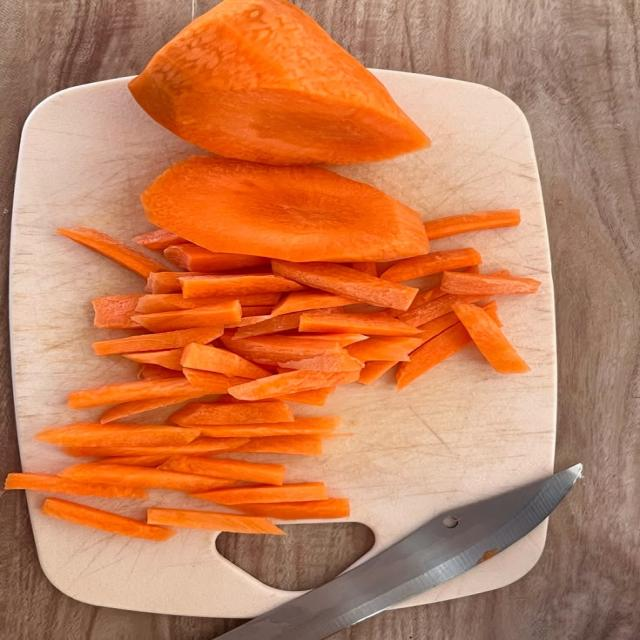carrot: (129, 0, 429, 165), (272, 260, 417, 310), (42, 498, 175, 540), (57, 228, 166, 277), (454, 305, 530, 373), (61, 464, 234, 493), (397, 323, 471, 390), (397, 323, 471, 389), (229, 369, 359, 400), (68, 377, 196, 408), (221, 333, 342, 365), (35, 423, 200, 446), (5, 473, 147, 499), (65, 437, 249, 457), (93, 327, 222, 355), (148, 508, 285, 534), (160, 457, 285, 485), (133, 300, 242, 332), (101, 390, 202, 424), (381, 248, 481, 282), (169, 401, 294, 426), (182, 344, 269, 379), (164, 243, 269, 272), (180, 274, 303, 298), (191, 483, 328, 504), (398, 293, 485, 326), (425, 210, 520, 240), (199, 417, 341, 437), (398, 294, 485, 326), (299, 312, 418, 335), (441, 271, 540, 296), (234, 498, 350, 519), (272, 291, 357, 315), (135, 293, 232, 313), (346, 337, 423, 362), (234, 312, 303, 339), (234, 312, 301, 339), (235, 435, 322, 455), (281, 350, 363, 371), (92, 294, 141, 329), (183, 368, 251, 393), (123, 348, 183, 372), (417, 312, 458, 345), (146, 271, 202, 294), (417, 312, 458, 343), (132, 229, 188, 250), (278, 387, 335, 406), (292, 334, 368, 347), (358, 361, 397, 385), (92, 455, 169, 467), (410, 287, 444, 310), (138, 364, 181, 380), (226, 314, 270, 328), (242, 306, 272, 321), (351, 263, 377, 277), (462, 265, 479, 274)
